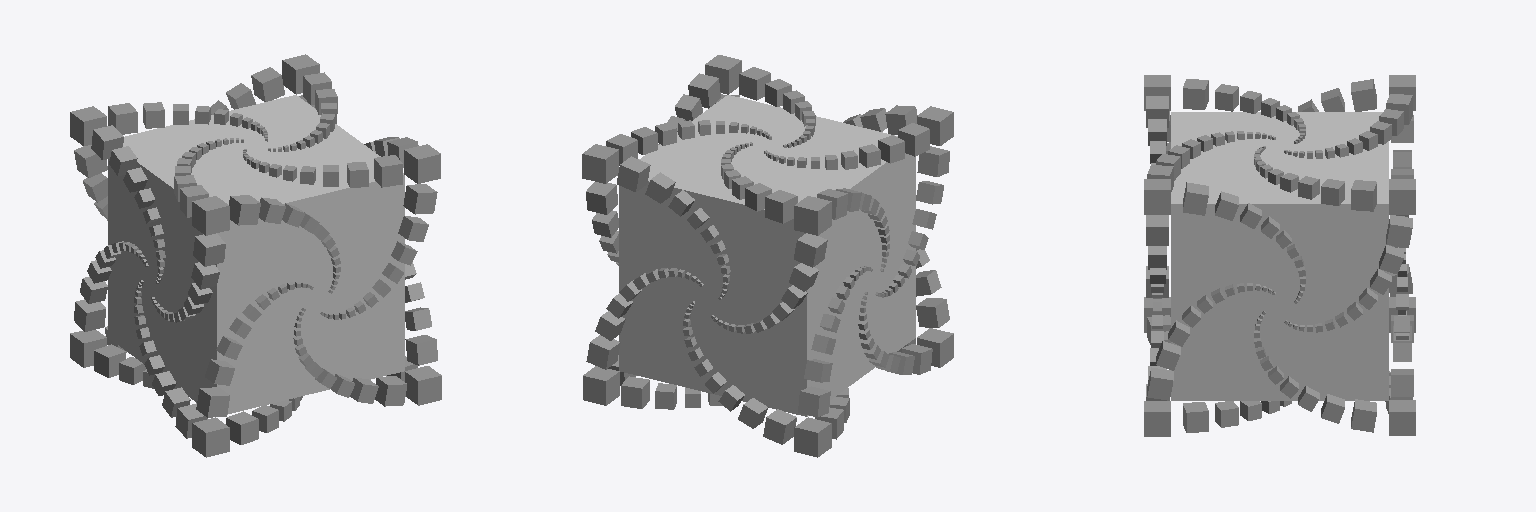
File: phase_substantiator.obj
The picture shows the model from 3 angles: view 1: azimuth 30°, elevation 25°; view 2: azimuth 150°, elevation 25°; view 3: azimuth 270°, elevation 25°; orthographic projection.
Visible parts, largest first — view 1: Cube_Cube.008, Cube.000_Cube.006; view 2: Cube_Cube.008, Cube.000_Cube.006; view 3: Cube_Cube.008, Cube.000_Cube.006.
Part boxes in pixels (x1,y1,x2,y2): Cube_Cube.008: (108, 95, 404, 414); Cube.000_Cube.006: (70, 54, 441, 457); Cube_Cube.008: (619, 95, 915, 416); Cube.000_Cube.006: (582, 55, 953, 457); Cube_Cube.008: (1171, 112, 1388, 400); Cube.000_Cube.006: (1144, 75, 1415, 436).
Bounding box in the file's own units: 1 × 1 × 1.